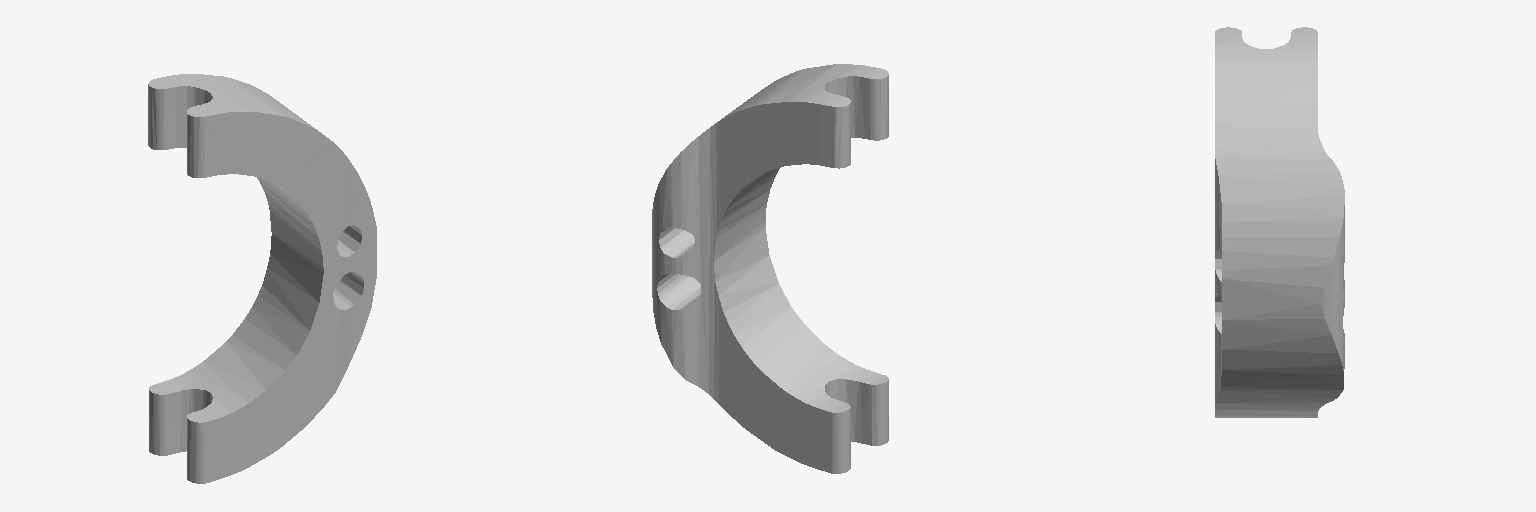
The model's file is seg22.OBJ.
The picture shows the model from 3 angles: view 1: azimuth 30°, elevation 25°; view 2: azimuth 150°, elevation 25°; view 3: azimuth 270°, elevation 25°; orthographic projection.
Visible parts, largest first — view 1: /ambf/env/seg22_seg22; view 2: /ambf/env/seg22_seg22; view 3: /ambf/env/seg22_seg22.
Part boxes in pixels (bbox=[...]): /ambf/env/seg22_seg22: bbox=[148, 74, 376, 483]; /ambf/env/seg22_seg22: bbox=[652, 64, 888, 473]; /ambf/env/seg22_seg22: bbox=[1215, 27, 1344, 417].
Bounding box in the file's own units: 0.0032 × 0.006 × 0.0019.